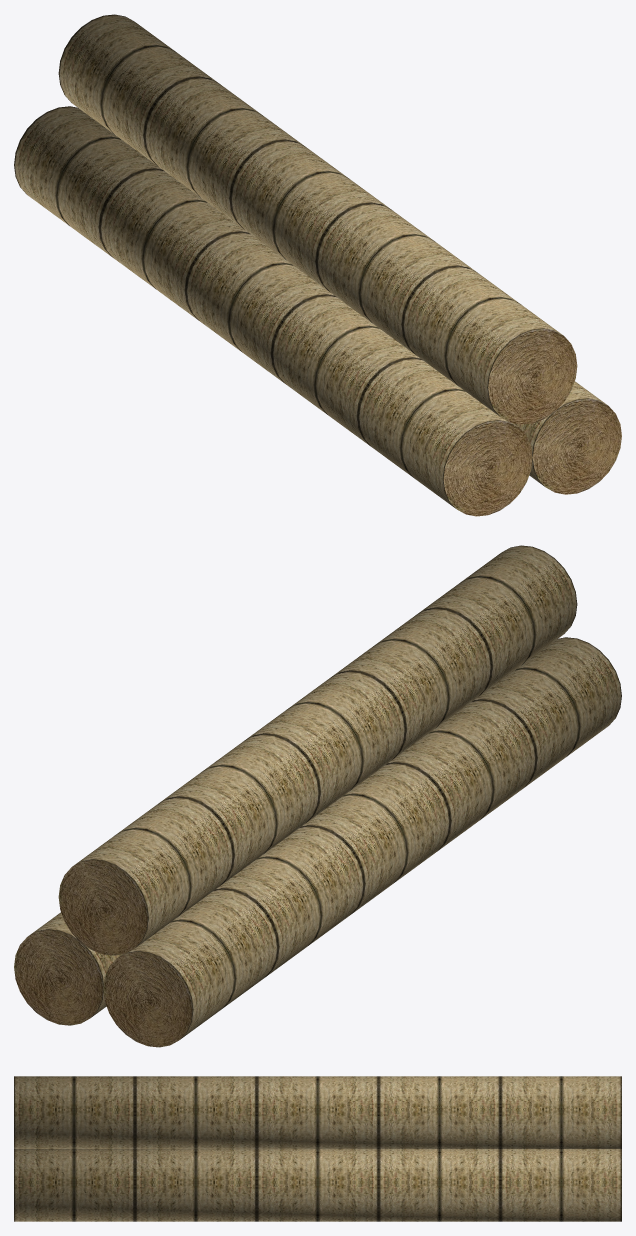
The model's file is hay-bale-straw-3x10-cbj_LOD00.gltf.
3 views of the same model, one above another, from view 1: azimuth 30°, elevation 25°; view 2: azimuth 150°, elevation 25°; view 3: azimuth 270°, elevation 25° (orthographic). The views are drawn at different scales.
Visible parts, largest first — view 1: Cube; view 2: Cube; view 3: Cube.
Boxes of the visible parts, x1,y1,x2,y2 form: Cube: (14, 14, 621, 516); Cube: (14, 545, 621, 1047); Cube: (14, 1076, 621, 1221).
Size of the model in its own units: 3.6 by 3.36 by 15.
